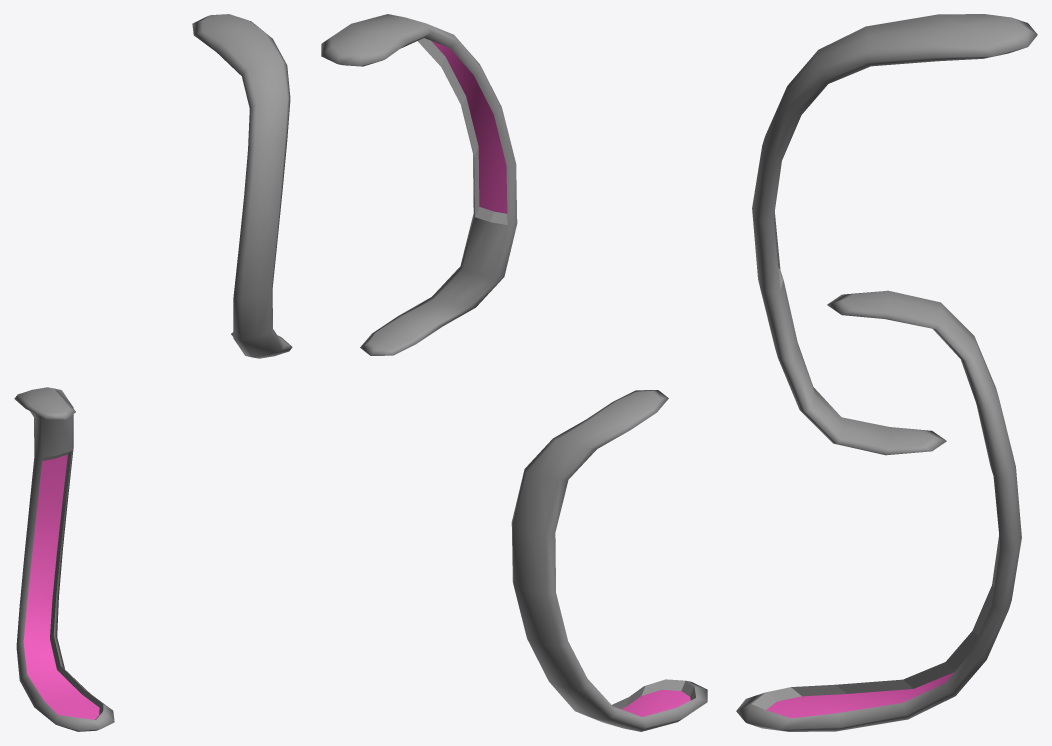
Rendered from BunnyEars.fbx.
The picture shows the model from 3 angles, left to right: view 1: azimuth 30°, elevation 25°; view 2: azimuth 150°, elevation 25°; view 3: azimuth 270°, elevation 25°; orthographic projection. The views are drawn at different scales.
Parts seen in each view (by area): view 1: Box001, Box002; view 2: Box001, Box002; view 3: Box001, Box002.
Boxes of the visible parts, bbox=[...] form: Box001: bbox=[192, 14, 292, 358]; Box002: bbox=[14, 387, 114, 731]; Box001: bbox=[321, 14, 517, 355]; Box002: bbox=[511, 390, 707, 731]; Box001: bbox=[752, 14, 1037, 455]; Box002: bbox=[736, 290, 1021, 731].
Bounding box in the file's own units: 264 × 554 × 180.
